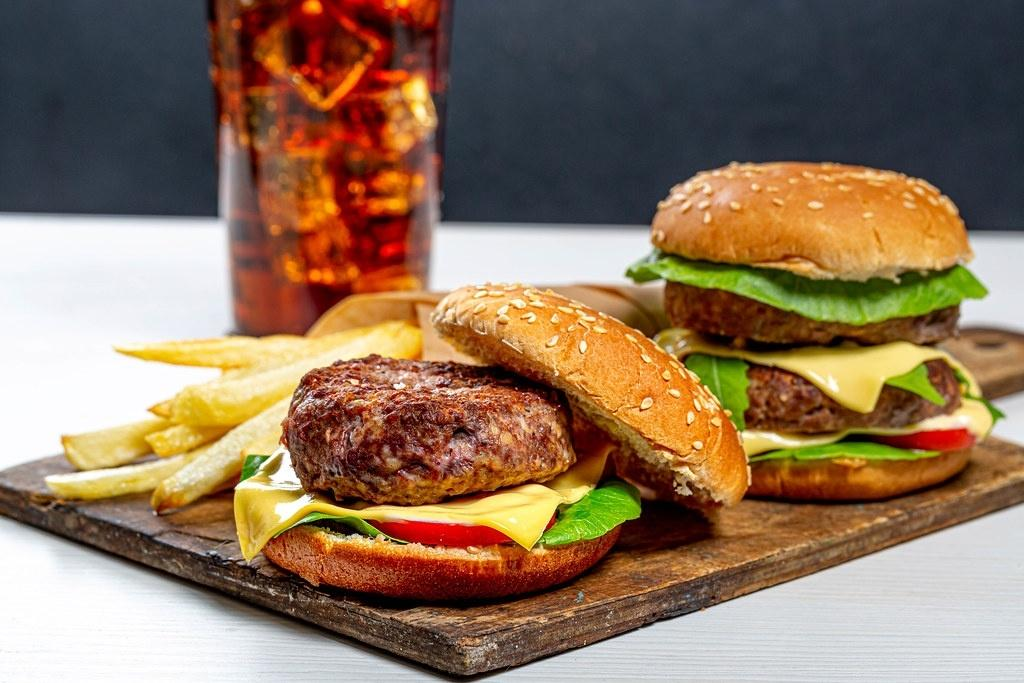Burger: (333, 336, 720, 559)
